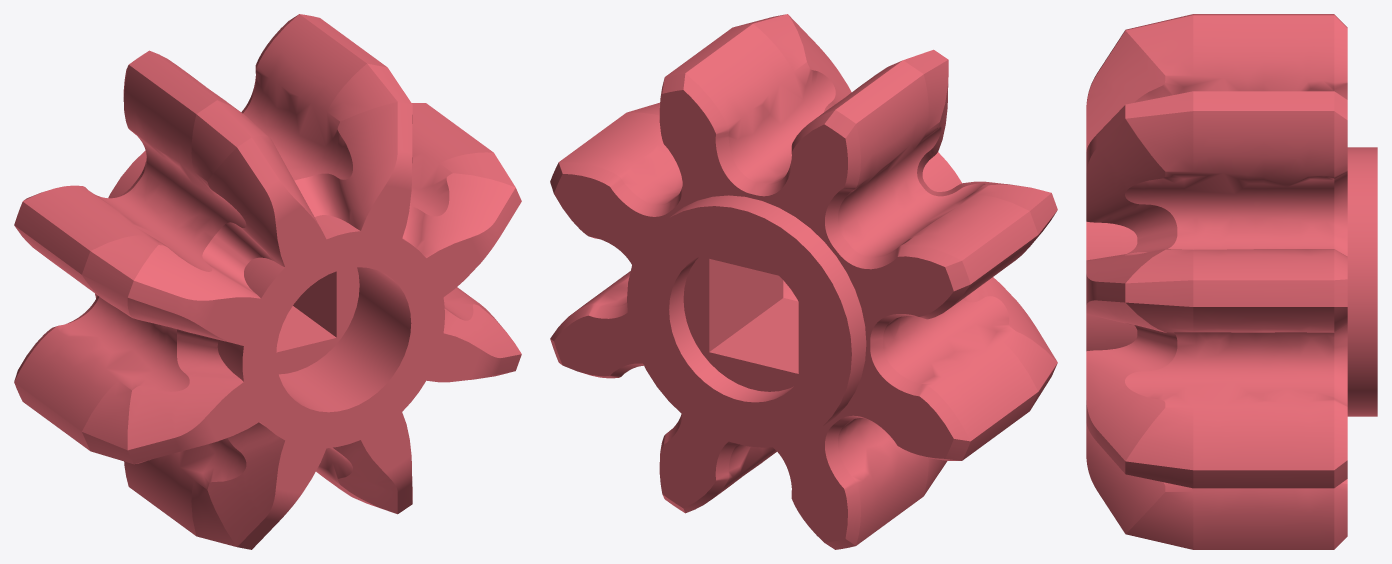
3 views of the same model, side by side, from view 1: azimuth 30°, elevation 25°; view 2: azimuth 150°, elevation 25°; view 3: azimuth 270°, elevation 25° (orthographic). The views are drawn at different scales.
Visible parts, largest first — view 1: main_d22630; view 2: main_d22630; view 3: main_d22630.
Part boxes in pixels (box(x1,y1,x2,y2)): main_d22630: box(14, 14, 521, 549); main_d22630: box(550, 14, 1057, 549); main_d22630: box(1086, 14, 1377, 549).
Bounding box in the file's own units: 14.95 × 14.95 × 8.64.
